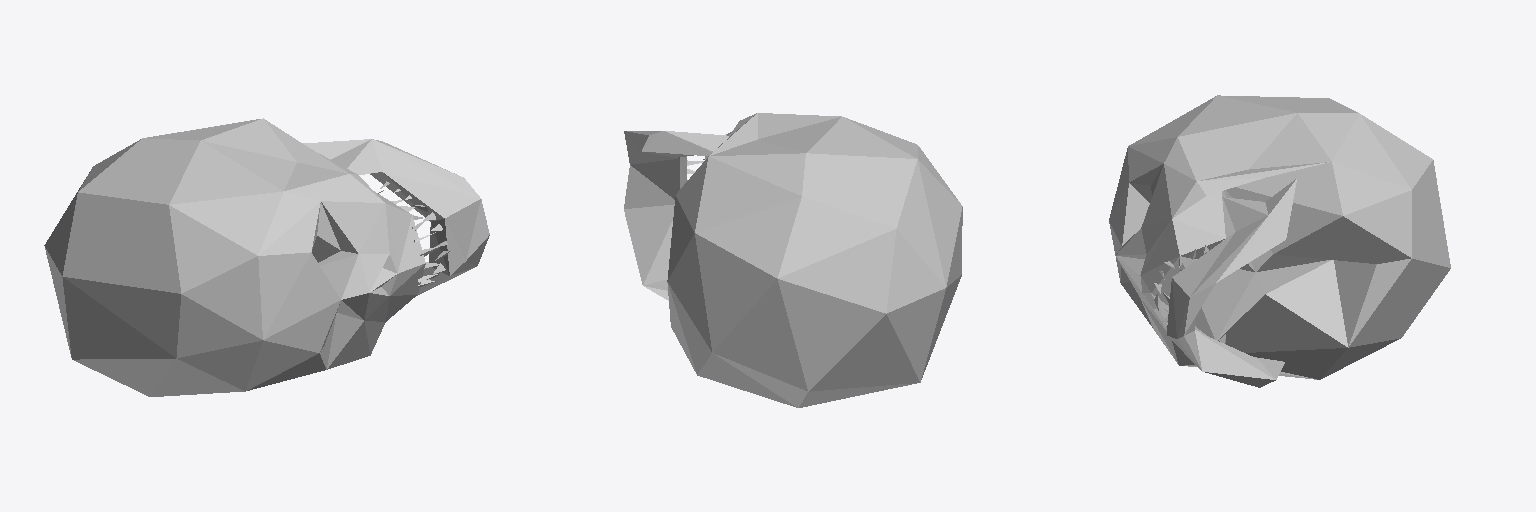
The model's file is bone_skull_1_002.obj.
The picture shows the model from 3 angles: view 1: azimuth 30°, elevation 25°; view 2: azimuth 150°, elevation 25°; view 3: azimuth 270°, elevation 25°; orthographic projection.
Parts seen in each view (by area): view 1: Skull; view 2: Skull; view 3: Skull.
Part boxes in pixels (bbox=[...]): Skull: bbox=[44, 118, 489, 396]; Skull: bbox=[624, 113, 962, 407]; Skull: bbox=[1109, 95, 1450, 387].
Bounding box in the file's own units: 0.7851 × 0.4857 × 0.6255.